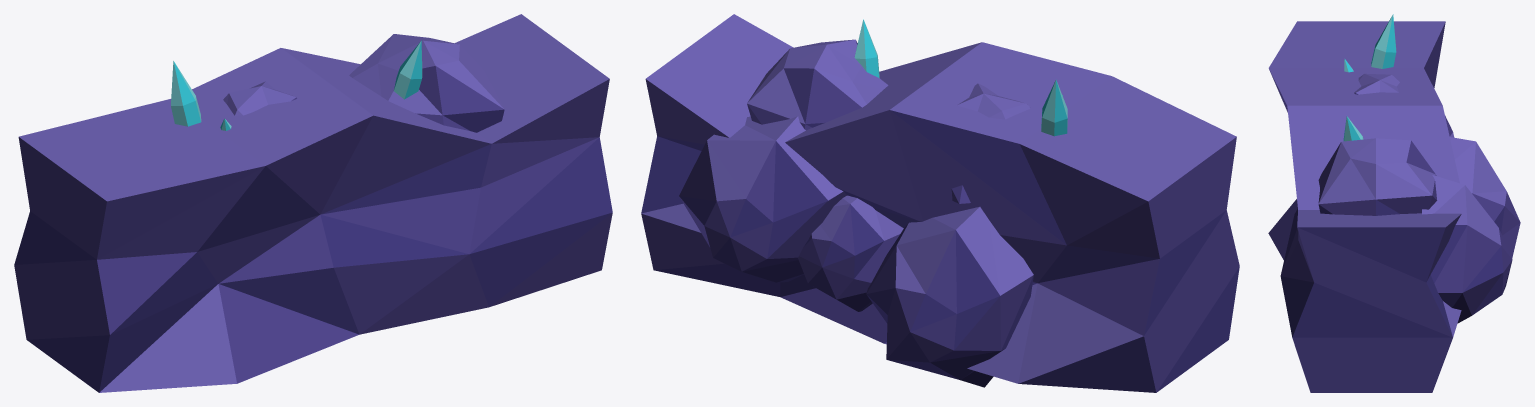
Rendered from Mine_FrontWall_Crystals.obj.
The picture shows the model from 3 angles, left to right: view 1: azimuth 30°, elevation 25°; view 2: azimuth 150°, elevation 25°; view 3: azimuth 270°, elevation 25°; orthographic projection. The views are drawn at different scales.
Visible parts, largest first — view 1: Mine_FrontWall_Crystals; view 2: Mine_FrontWall_Crystals; view 3: Mine_FrontWall_Crystals.
Part boxes in pixels (x1,y1,x2,y2): Mine_FrontWall_Crystals: (14,14,612,392); Mine_FrontWall_Crystals: (641,14,1239,392); Mine_FrontWall_Crystals: (1268,14,1520,392).
Bounding box in the file's own units: 4 × 2.32 × 2.07.
